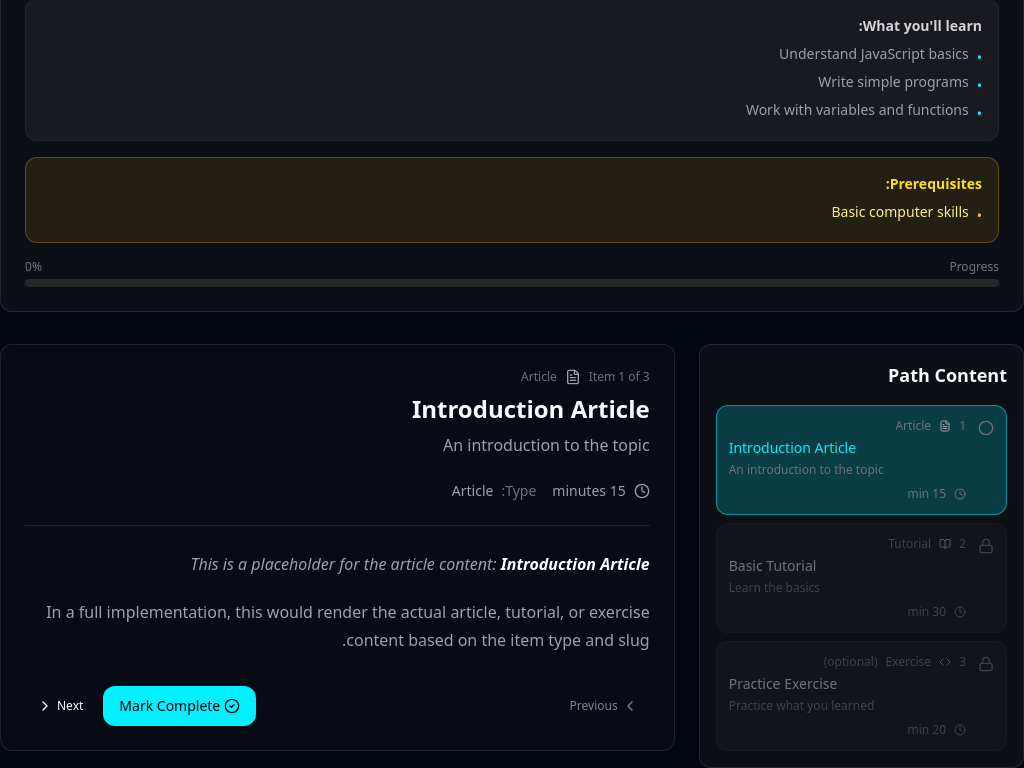
Test case: LearningPathViewer › should display optional note in item content
The image size is (1024, 768).
(page scrolled)
What coordinates should you click on to do the following:
click the button "Next"
I would click on:
 (60, 706)
Its box is [25, 688, 95, 724].
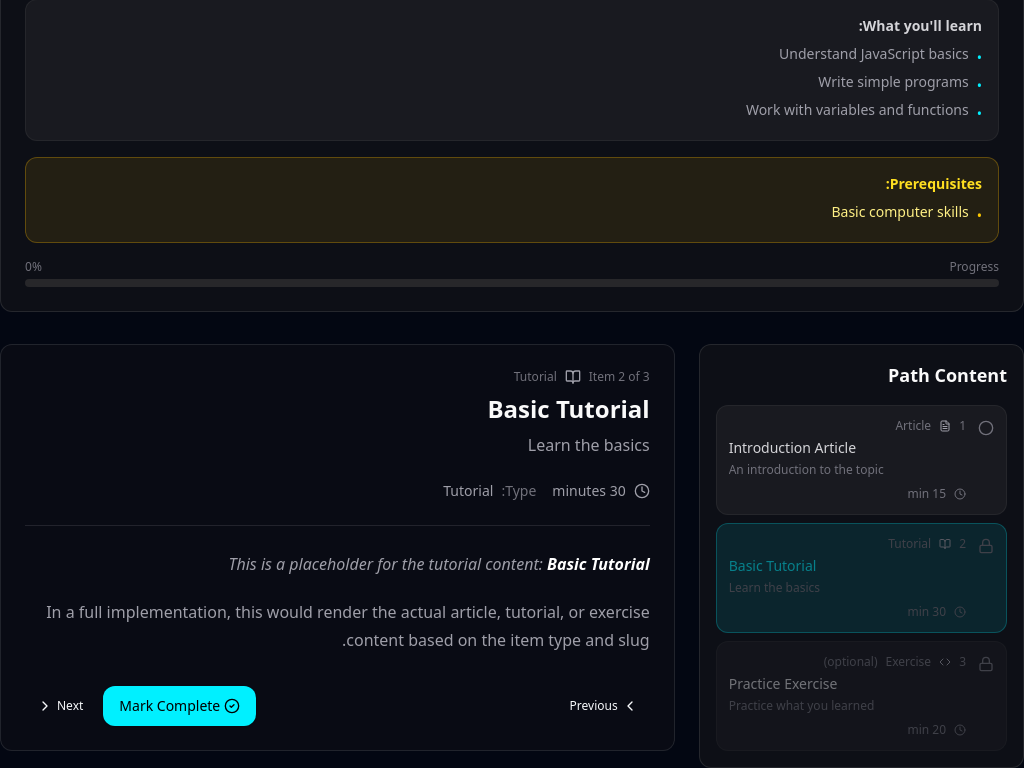
What coordinates should you click on to do the following:
click the button "Next"
I would click on:
 (60, 706)
Its box is [25, 688, 95, 724].
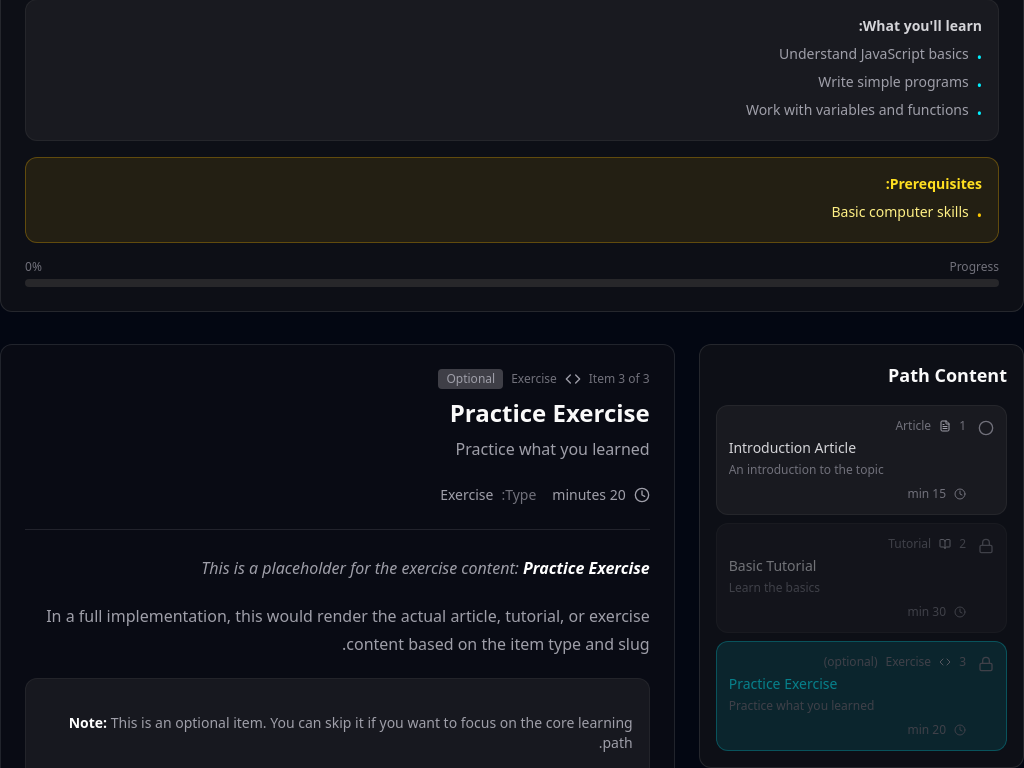
Check: the text "This is an optional item" is shown, box [107, 712, 633, 752]
